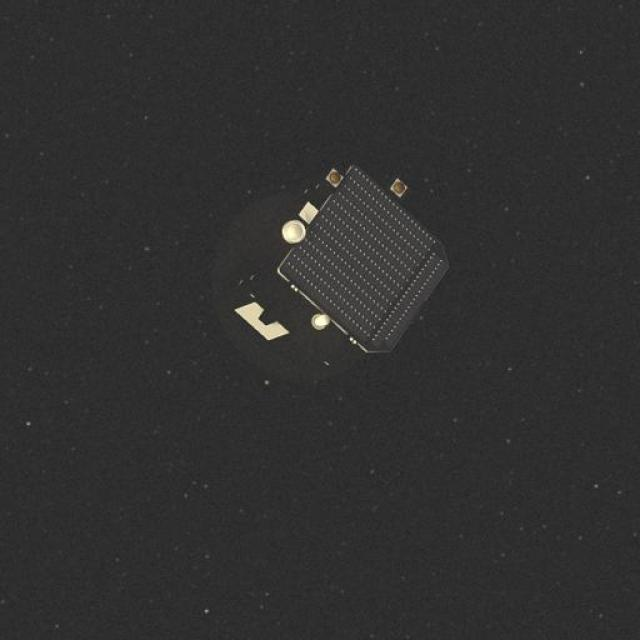proba_3_ocs: (198, 154, 470, 386)
